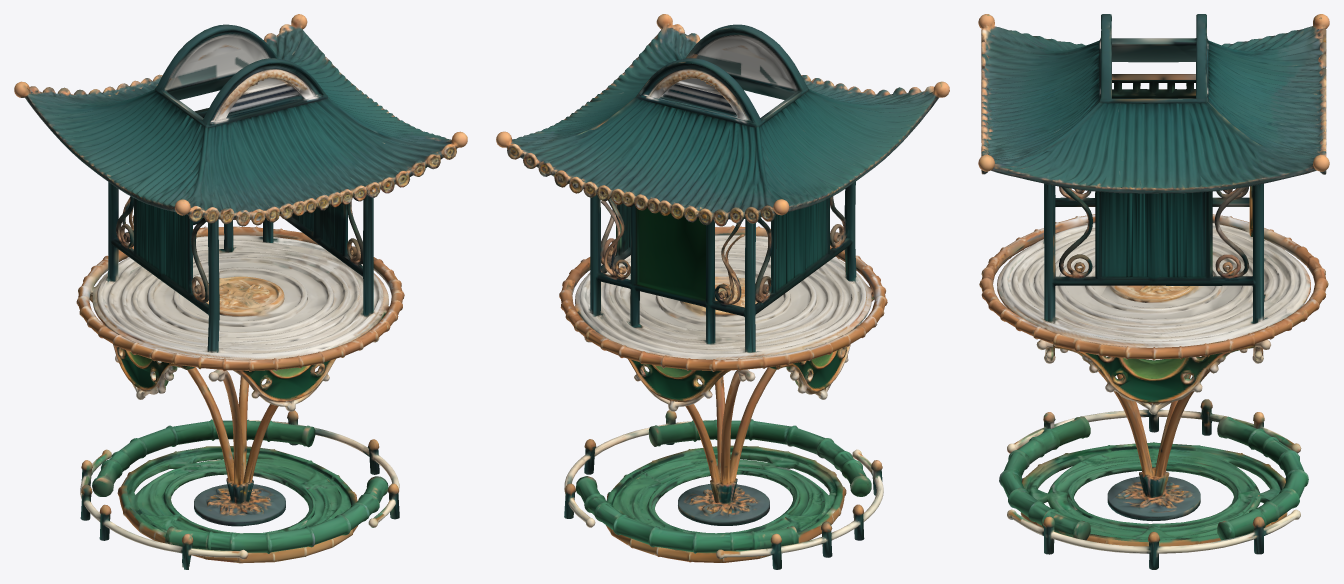
Rendered from award-01.glb.
3 views of the same model, side by side, from view 1: azimuth 30°, elevation 25°; view 2: azimuth 150°, elevation 25°; view 3: azimuth 270°, elevation 25° (orthographic). The views are drawn at different scales.
Parts seen in each view (by area): view 1: node_0; view 2: node_0; view 3: node_0.
Part boxes in pixels (x1=…): node_0: x1=14, y1=14, x2=467, y2=569; node_0: x1=496, y1=14, x2=949, y2=569; node_0: x1=978, y1=14, x2=1329, y2=569.
Bounding box in the file's own units: 0.6702 × 1.02 × 0.6733.
Materials: 1 (1 with a texture image).
